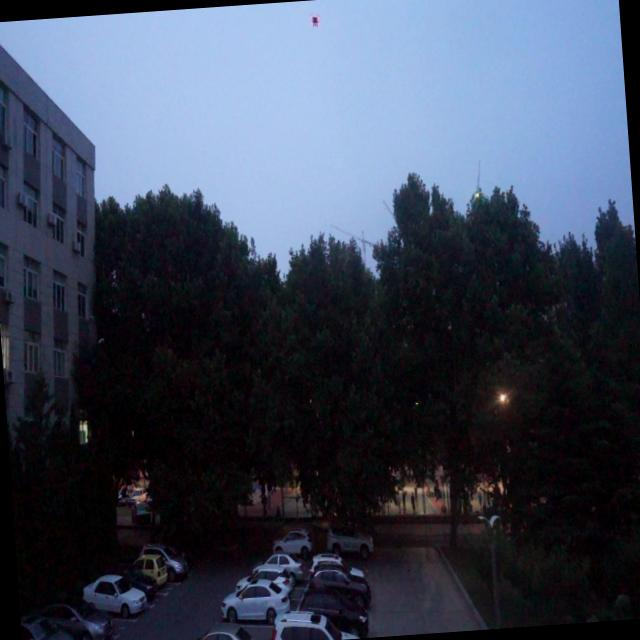drone: (306, 7, 322, 30)
